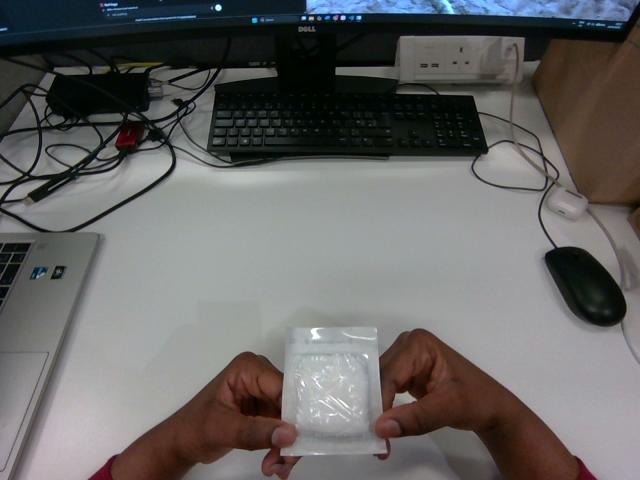gauze: (281, 327, 385, 455)
